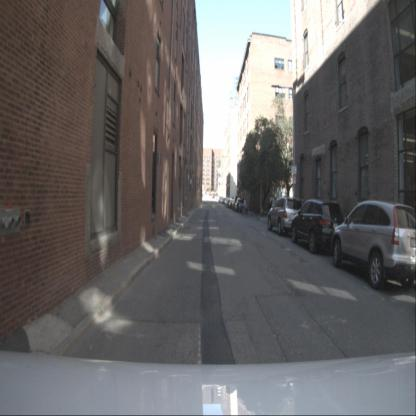human-pedestrian-adult: (242, 198, 247, 216)
vehicle-car: (331, 200, 415, 290), (291, 199, 345, 256), (267, 197, 304, 236), (234, 197, 246, 213), (231, 195, 242, 211), (228, 199, 236, 209)
